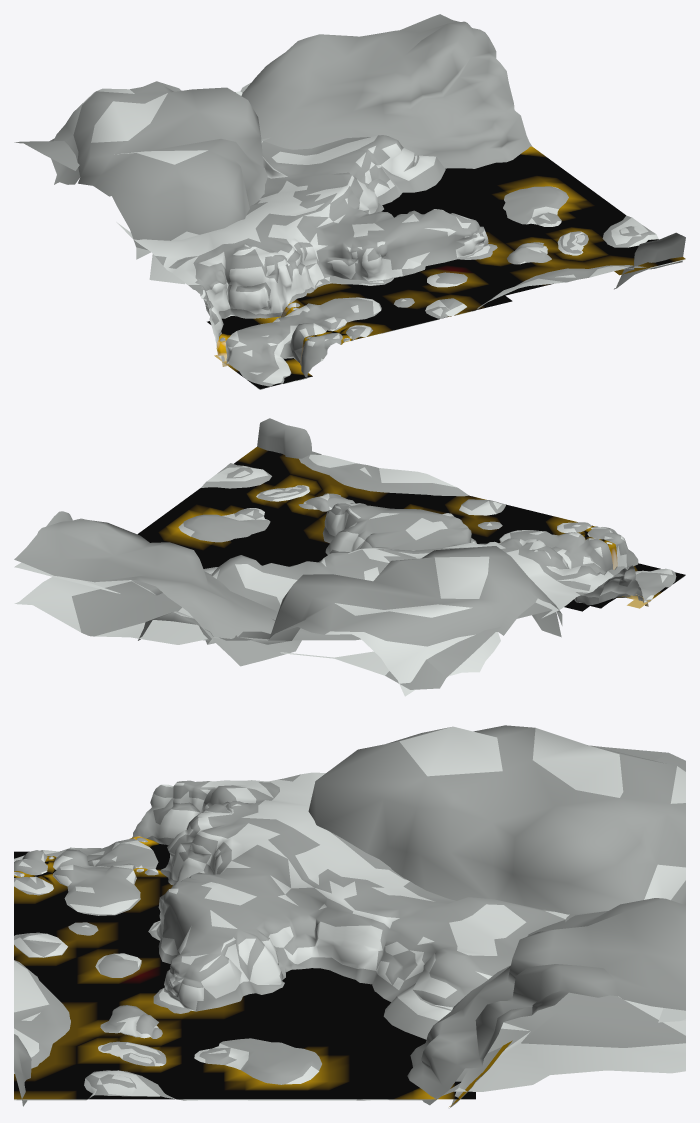
3 renders of one model, top to bottom at view 1: azimuth 30°, elevation 25°; view 2: azimuth 150°, elevation 25°; view 3: azimuth 270°, elevation 25°, orthographic. The views are drawn at different scales.
Visible parts, largest first — view 1: G:\FFXIV-MapTools\exports\f1f3\bg\ffxiv\fst_f1\fld\f1f3\bgpl (×13); view 2: G:\FFXIV-MapTools\exports\f1f3\bg\ffxiv\fst_f1\fld\f1f3\bgpl (×12); view 3: G:\FFXIV-MapTools\exports\f1f3\bg\ffxiv\fst_f1\fld\f1f3\bgpl (×14).
Boxes of the visible parts, x1,y1,x2,y2 form: G:\FFXIV-MapTools\exports\f1f3\bg\ffxiv\fst_f1\fld\f1f3\bgpl (×13): [14, 14, 685, 389]; G:\FFXIV-MapTools\exports\f1f3\bg\ffxiv\fst_f1\fld\f1f3\bgpl (×12): [14, 418, 685, 696]; G:\FFXIV-MapTools\exports\f1f3\bg\ffxiv\fst_f1\fld\f1f3\bgpl (×14): [14, 725, 685, 1106].
Size of the model in its own units: 128 by 32.87 by 128.
